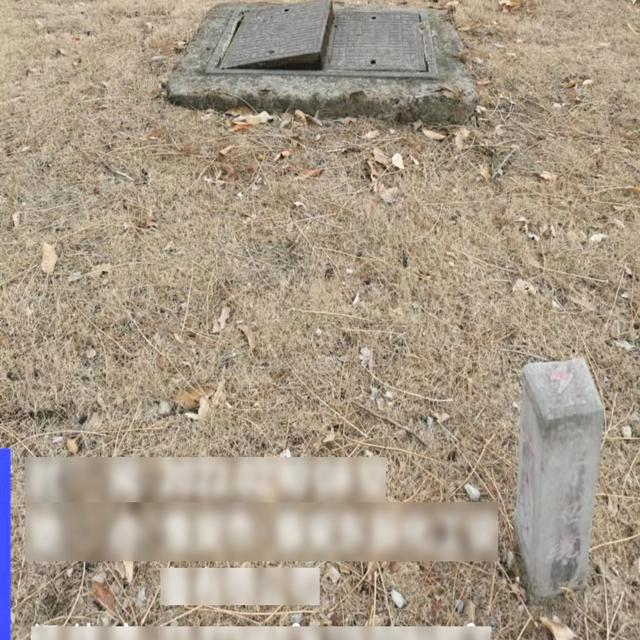uncovered: (185, 0, 489, 127)
